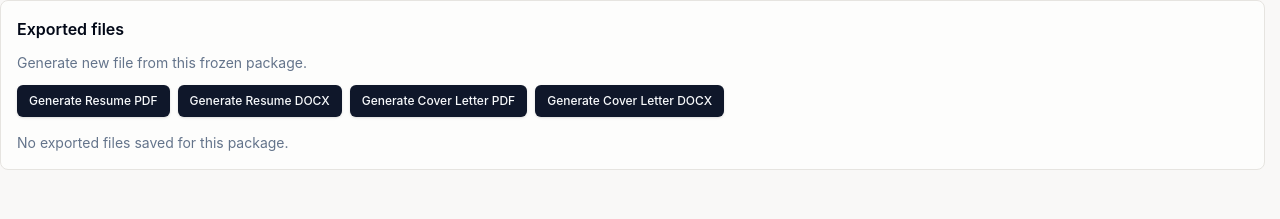
ArtifactPanel › identifies an existing exact file without restarting validation
Click the button "Generate Resume PDF" at (93, 101), box 17,85 -> 170,117
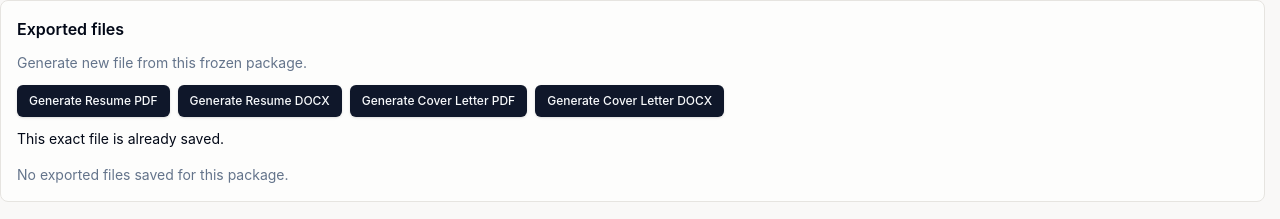
Expected: the text "This exact file is already saved" is shown, 17,130 -> 224,147
